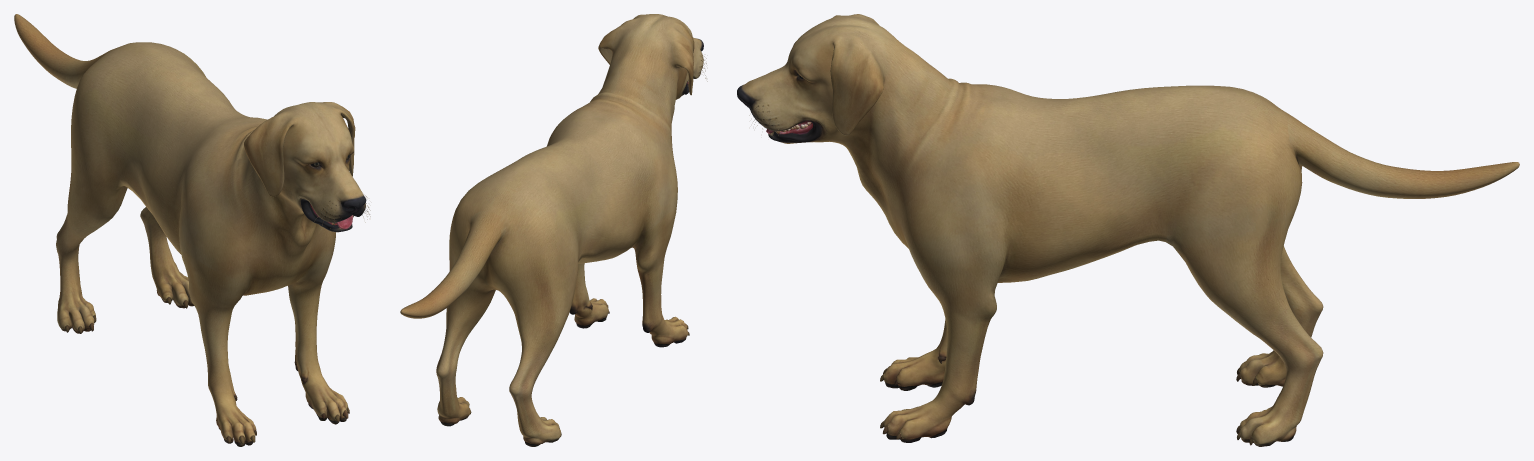
The picture shows the model from 3 angles, left to right: view 1: azimuth 30°, elevation 25°; view 2: azimuth 150°, elevation 25°; view 3: azimuth 270°, elevation 25°; orthographic projection. The views are drawn at different scales.
Visible parts, largest first — view 1: node_id126_1; view 2: node_id126_1; view 3: node_id126_1.
Boxes of the visible parts, x1,y1,x2,y2 form: node_id126_1: [14, 14, 370, 446]; node_id126_1: [400, 14, 707, 446]; node_id126_1: [737, 14, 1519, 446].
Bounding box in the file's own units: 0.2187 × 0.512 × 0.933.
1 material, 1 textured.
